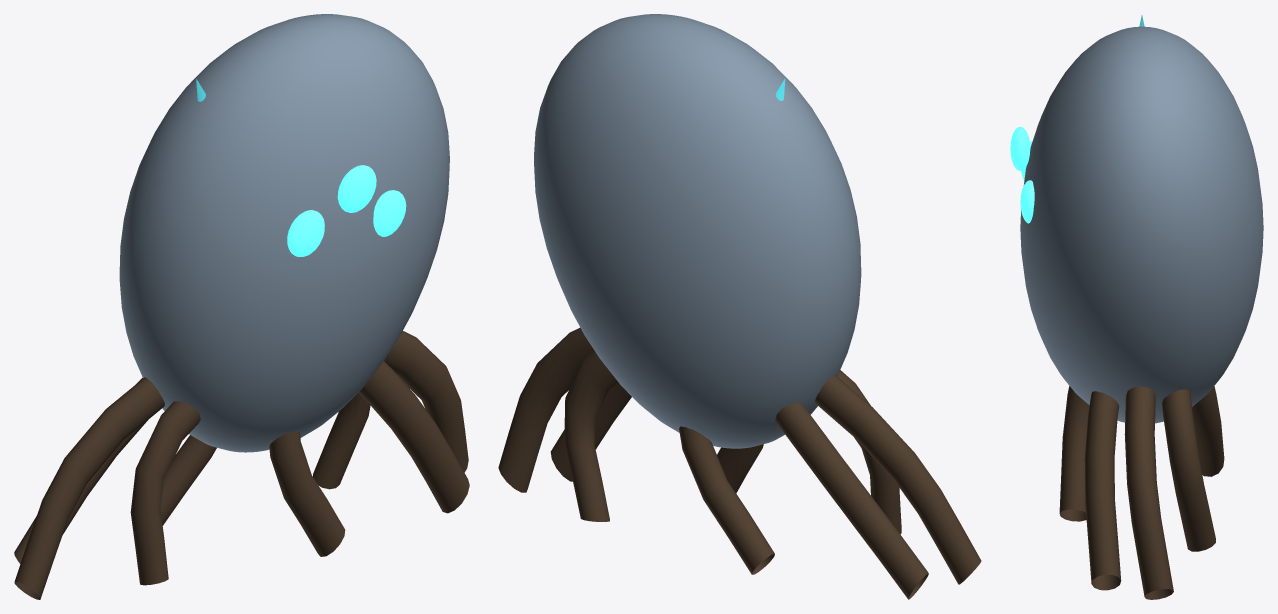
File: aberration_v4.glb
3 renders of one model, left to right at view 1: azimuth 30°, elevation 25°; view 2: azimuth 150°, elevation 25°; view 3: azimuth 270°, elevation 25°, orthographic. The views are drawn at different scales.
Visible parts, largest first — view 1: ABERRANT_BODY_PRIMARY, TENTACLE_SECONDARY.004, TENTACLE_SECONDARY.007, TENTACLE_SECONDARY.005, TENTACLE_SECONDARY, TENTACLE_SECONDARY.006, TENTACLE_SECONDARY.001, TENTACLE_SECONDARY.002, EYE_EMISSIVE.001, EYE_EMISSIVE, EYE_EMISSIVE.002, TENTACLE_SECONDARY.003; view 2: ABERRANT_BODY_PRIMARY, TENTACLE_SECONDARY.004, TENTACLE_SECONDARY.003, TENTACLE_SECONDARY, TENTACLE_SECONDARY.001, TENTACLE_SECONDARY.002, TENTACLE_SECONDARY.005, TENTACLE_SECONDARY.007, TENTACLE_SECONDARY.006; view 3: ABERRANT_BODY_PRIMARY, TENTACLE_SECONDARY, TENTACLE_SECONDARY.007, TENTACLE_SECONDARY.001, TENTACLE_SECONDARY.006, TENTACLE_SECONDARY.002, EYE_EMISSIVE.001, EYE_EMISSIVE.002.
Boxes of the visible parts, x1,y1,x2,y2 form: ABERRANT_BODY_PRIMARY: [119, 14, 449, 452]; TENTACLE_SECONDARY.004: [14, 377, 164, 599]; TENTACLE_SECONDARY.007: [358, 361, 469, 513]; TENTACLE_SECONDARY.005: [130, 401, 200, 585]; TENTACLE_SECONDARY: [384, 331, 468, 472]; TENTACLE_SECONDARY.006: [269, 431, 345, 556]; TENTACLE_SECONDARY.001: [313, 393, 370, 489]; TENTACLE_SECONDARY.002: [160, 435, 216, 525]; EYE_EMISSIVE.001: [337, 165, 376, 212]; EYE_EMISSIVE: [287, 210, 324, 256]; EYE_EMISSIVE.002: [373, 190, 406, 236]; TENTACLE_SECONDARY.003: [14, 377, 147, 563]; ABERRANT_BODY_PRIMARY: [534, 14, 861, 448]; TENTACLE_SECONDARY.004: [815, 375, 981, 584]; TENTACLE_SECONDARY.003: [775, 403, 928, 599]; TENTACLE_SECONDARY: [498, 327, 593, 492]; TENTACLE_SECONDARY.001: [564, 350, 618, 521]; TENTACLE_SECONDARY.002: [679, 426, 774, 574]; TENTACLE_SECONDARY.005: [837, 370, 901, 534]; TENTACLE_SECONDARY.007: [550, 383, 631, 481]; TENTACLE_SECONDARY.006: [717, 444, 763, 493]; ABERRANT_BODY_PRIMARY: [1020, 26, 1263, 423]; TENTACLE_SECONDARY: [1124, 386, 1173, 599]; TENTACLE_SECONDARY.007: [1084, 391, 1121, 590]; TENTACLE_SECONDARY.001: [1162, 389, 1215, 551]; TENTACLE_SECONDARY.006: [1059, 386, 1089, 521]; TENTACLE_SECONDARY.002: [1192, 386, 1224, 476]; EYE_EMISSIVE.001: [1010, 126, 1030, 170]; EYE_EMISSIVE.002: [1020, 180, 1034, 223].
Size of the model in its own units: 2.28 by 2.35 by 1.09.
